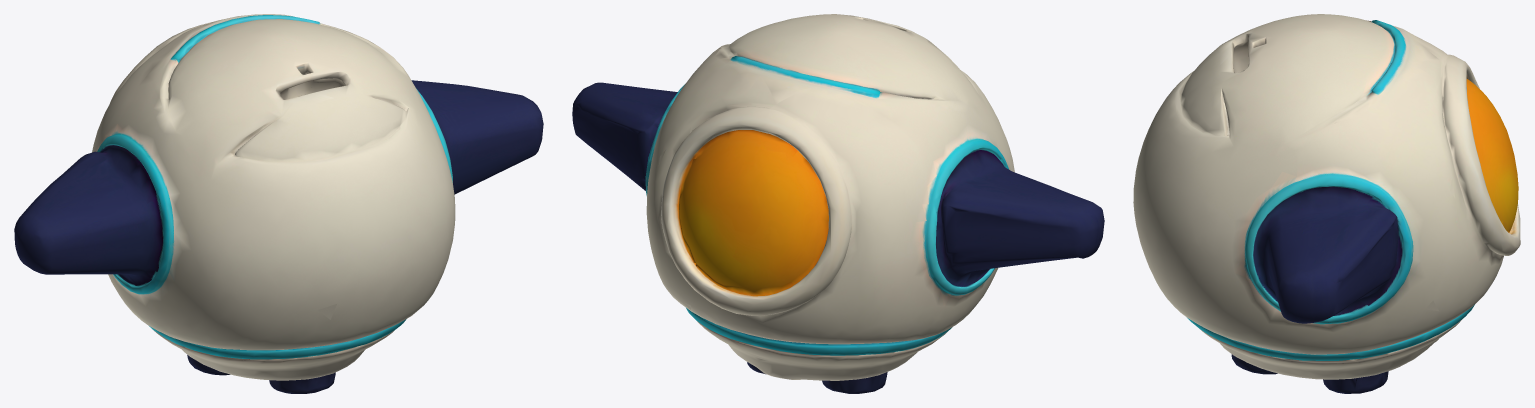
Rendered from sentry.glb.
The picture shows the model from 3 angles, left to right: view 1: azimuth 30°, elevation 25°; view 2: azimuth 150°, elevation 25°; view 3: azimuth 270°, elevation 25°; orthographic projection.
Parts seen in each view (by area): view 1: tripo_node_2623a541-4989-42f6-bf6b-4b35b1401ac1; view 2: tripo_node_2623a541-4989-42f6-bf6b-4b35b1401ac1; view 3: tripo_node_2623a541-4989-42f6-bf6b-4b35b1401ac1.
Part boxes in pixels (x1,y1,x2,y2): tripo_node_2623a541-4989-42f6-bf6b-4b35b1401ac1: [14, 14, 543, 393]; tripo_node_2623a541-4989-42f6-bf6b-4b35b1401ac1: [572, 14, 1104, 393]; tripo_node_2623a541-4989-42f6-bf6b-4b35b1401ac1: [1133, 14, 1520, 393].
Size of the model in its own units: 1.47 by 0.8999 by 0.9454.
1 material, 1 textured.
